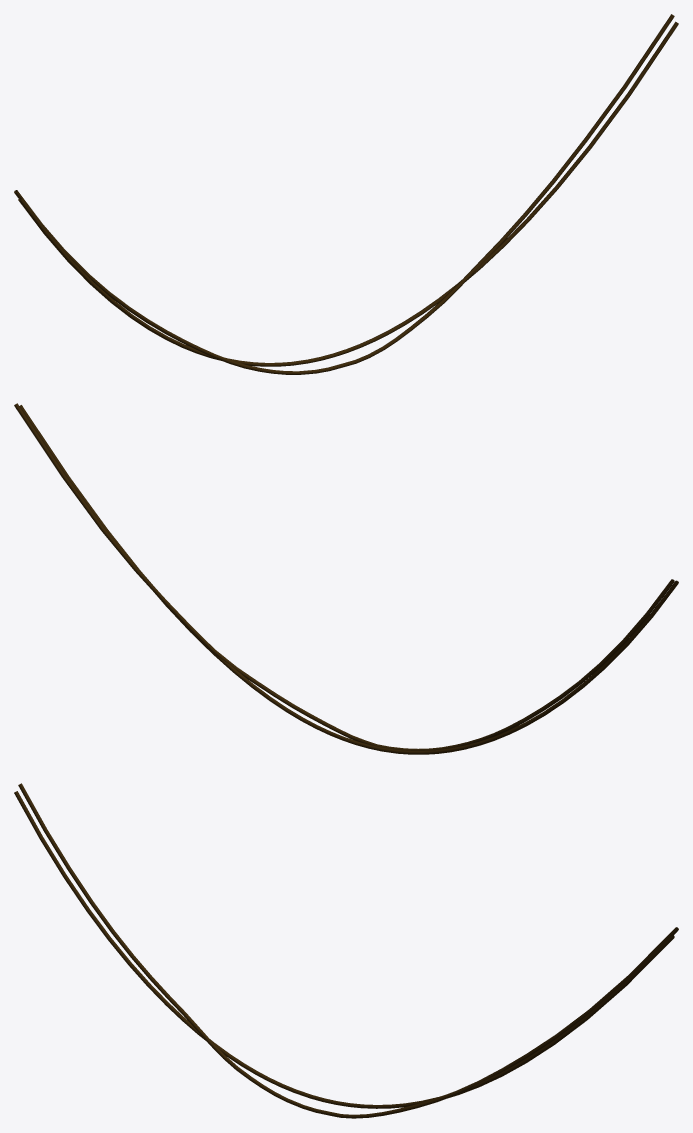
The model's file is SM_Vines03.fbx.
The picture shows the model from 3 angles, top to bottom: view 1: azimuth 30°, elevation 25°; view 2: azimuth 150°, elevation 25°; view 3: azimuth 330°, elevation 25°; orthographic projection.
Visible parts, largest first — view 1: Vine03; view 2: Vine03; view 3: Vine03.
Boxes of the visible parts, x1=… form: Vine03: x1=14, y1=14, x2=678, y2=374; Vine03: x1=14, y1=403, x2=678, y2=754; Vine03: x1=14, y1=783, x2=678, y2=1118.
Size of the model in its own units: 1462 by 46.19 by 561.
